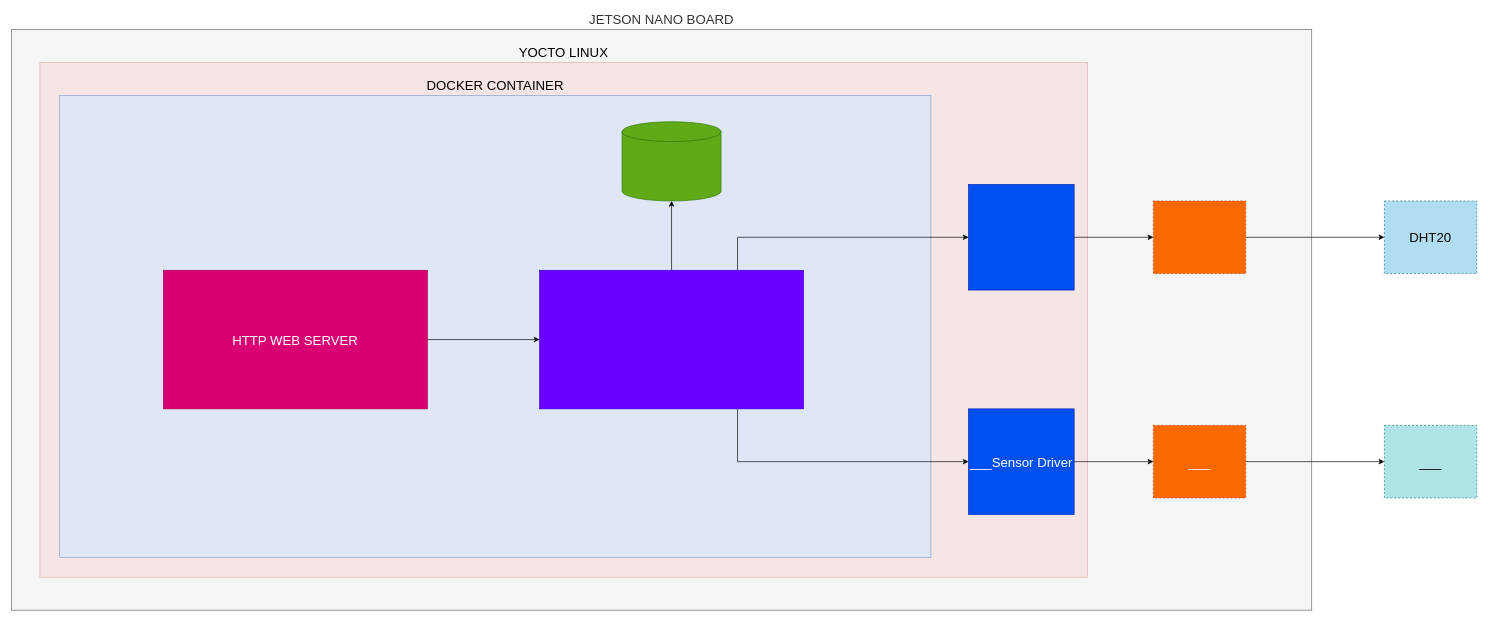
Some shapes in this 1488 by 622 pixel diagram are drawn without their labels. Each missing label, with the box of its shape:
FLASK APPLICATION: (539, 270, 804, 409)
I2C: (1153, 200, 1246, 274)
PostgreSQL: (621, 121, 721, 201)
Temp Sensor Driver: (968, 184, 1074, 290)
